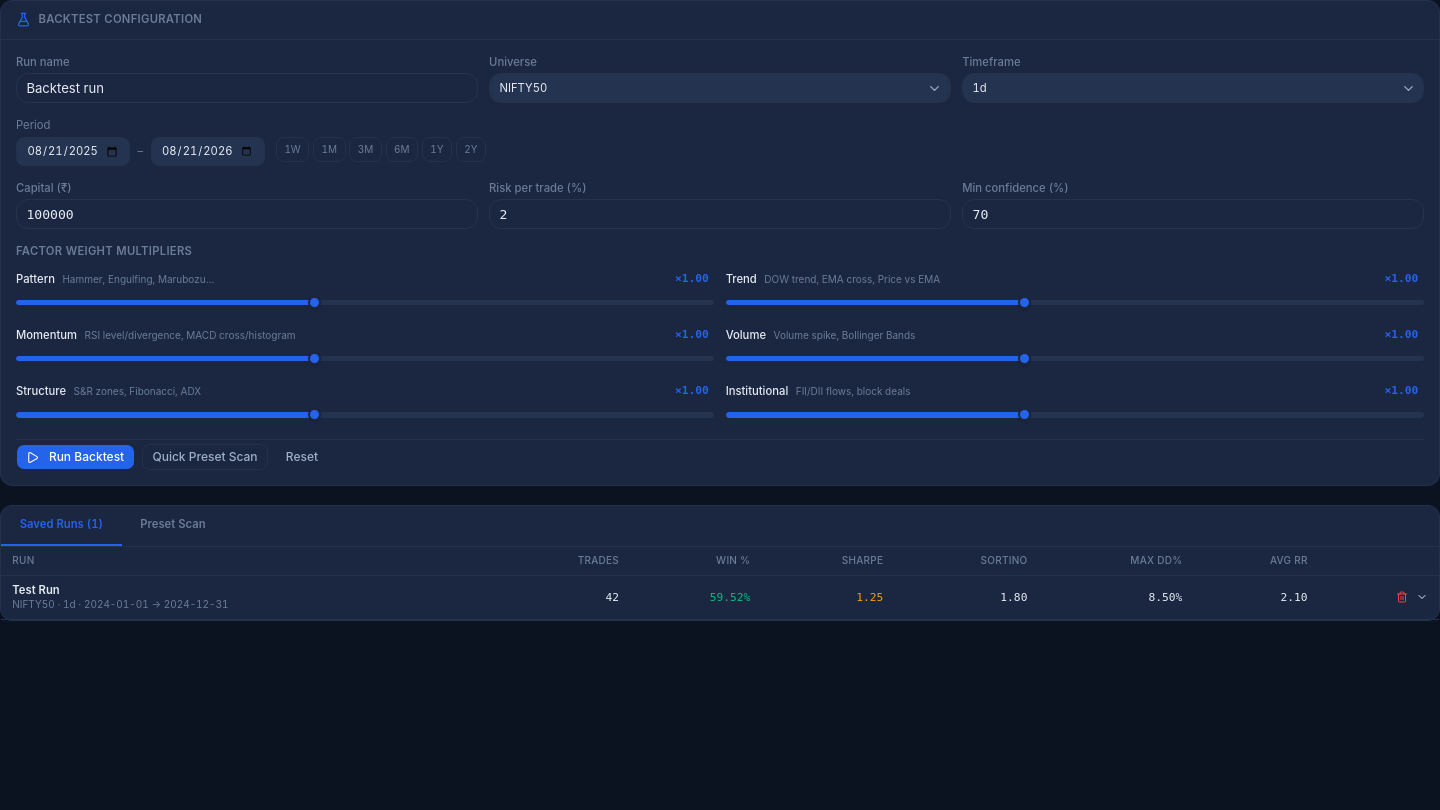
Test: StrategyLabPage — saved runs › expands a run row to show equity curve section
Check: the text "Test Run" is shown, box [12,583,60,597]
// Click the row to expand
Click the text "Test Run": click(720, 597) [1,575,1439,620]
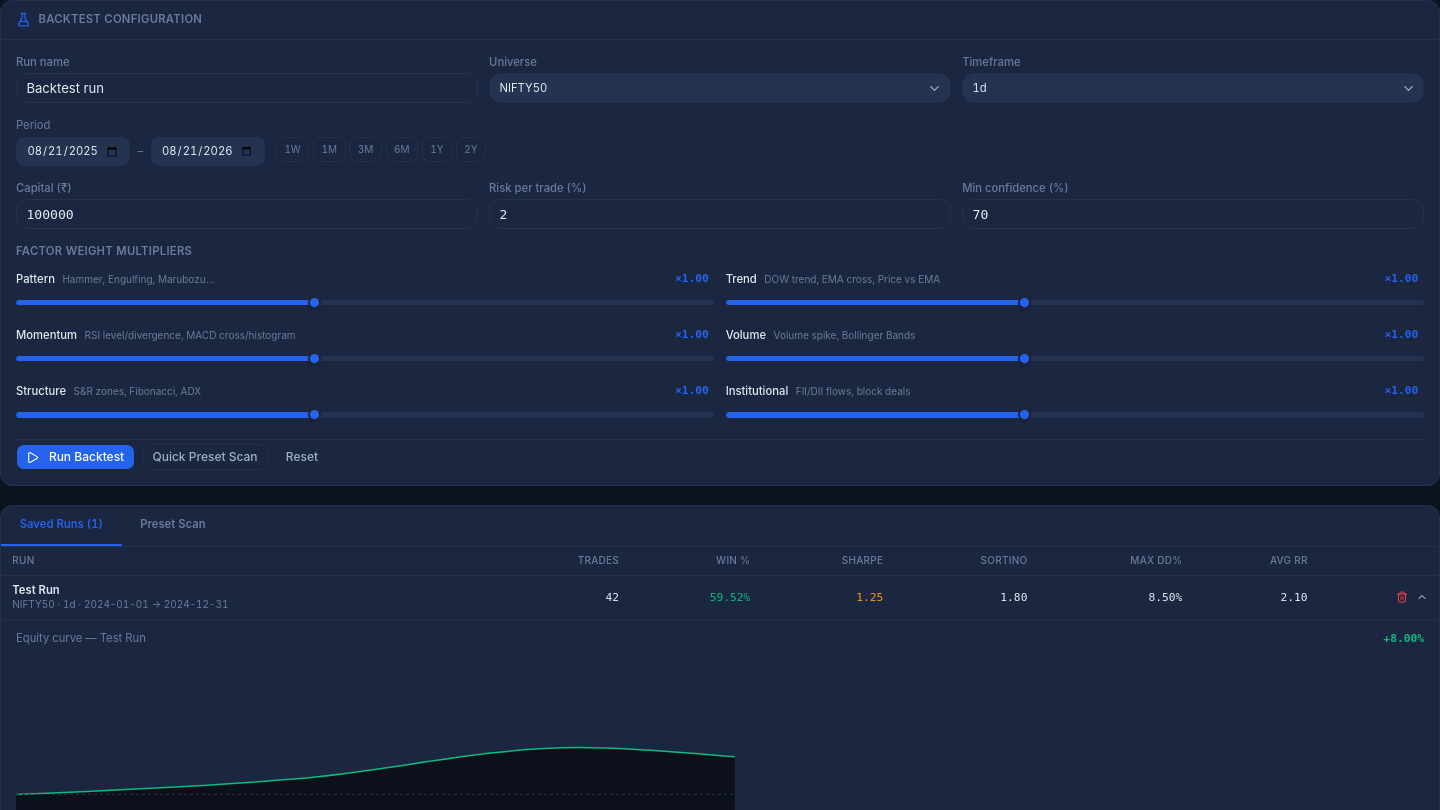
Check: the text "Equity curve — Test Run" is shown, box [16,631,146,646]
